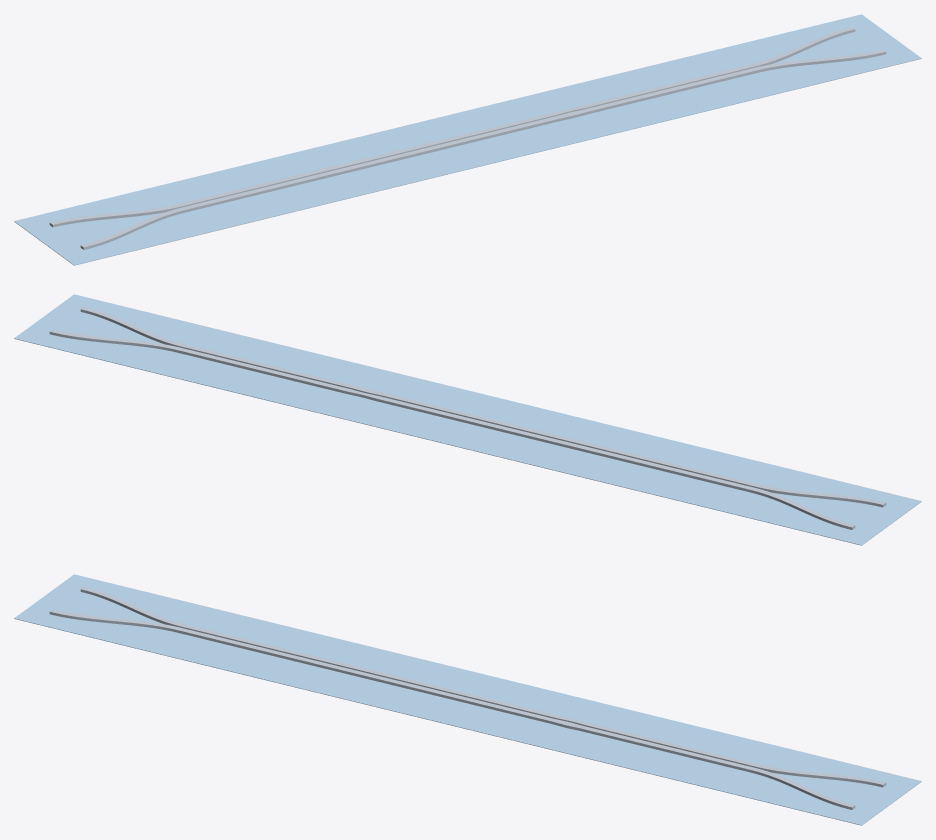
Rendered from siepic-bdc.glb.
The picture shows the model from 3 angles, top to bottom: view 1: azimuth 30°, elevation 25°; view 2: azimuth 150°, elevation 25°; view 3: azimuth 330°, elevation 25°; orthographic projection.
Visible parts, largest first — view 1: box_top, core_0, core_1; view 2: box_top, core_1, core_0; view 3: box_top, core_0, core_1.
Part boxes in pixels (left/top/right/bottom): box_top: left=14, top=14, right=921, bottom=265; core_0: left=80, top=49, right=886, bottom=249; core_1: left=49, top=27, right=855, bottom=227; box_top: left=14, top=294, right=921, bottom=545; core_1: left=49, top=329, right=855, bottom=529; core_0: left=80, top=307, right=886, bottom=507; box_top: left=14, top=574, right=921, bottom=825; core_0: left=49, top=609, right=855, bottom=809; core_1: left=80, top=587, right=886, bottom=787.
Size of the model in its own units: 74.75 by 0.26 by 9.2.
